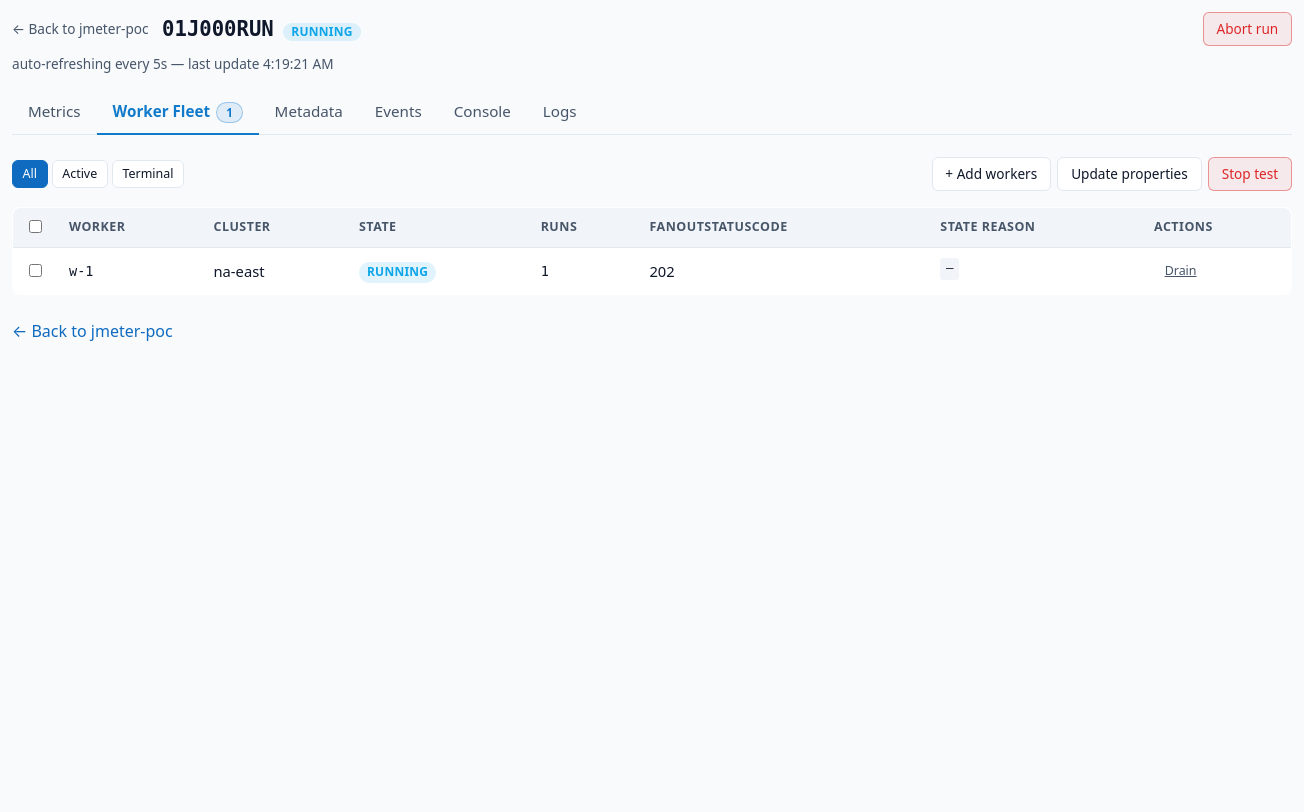
Test case: RunDetailPage — metadata dynamics › Metadata shows the plugin snapshot, the fleet properties, and save-results
Click the tab "Metadata".
click(309, 112)  # box [259,90,359,135]
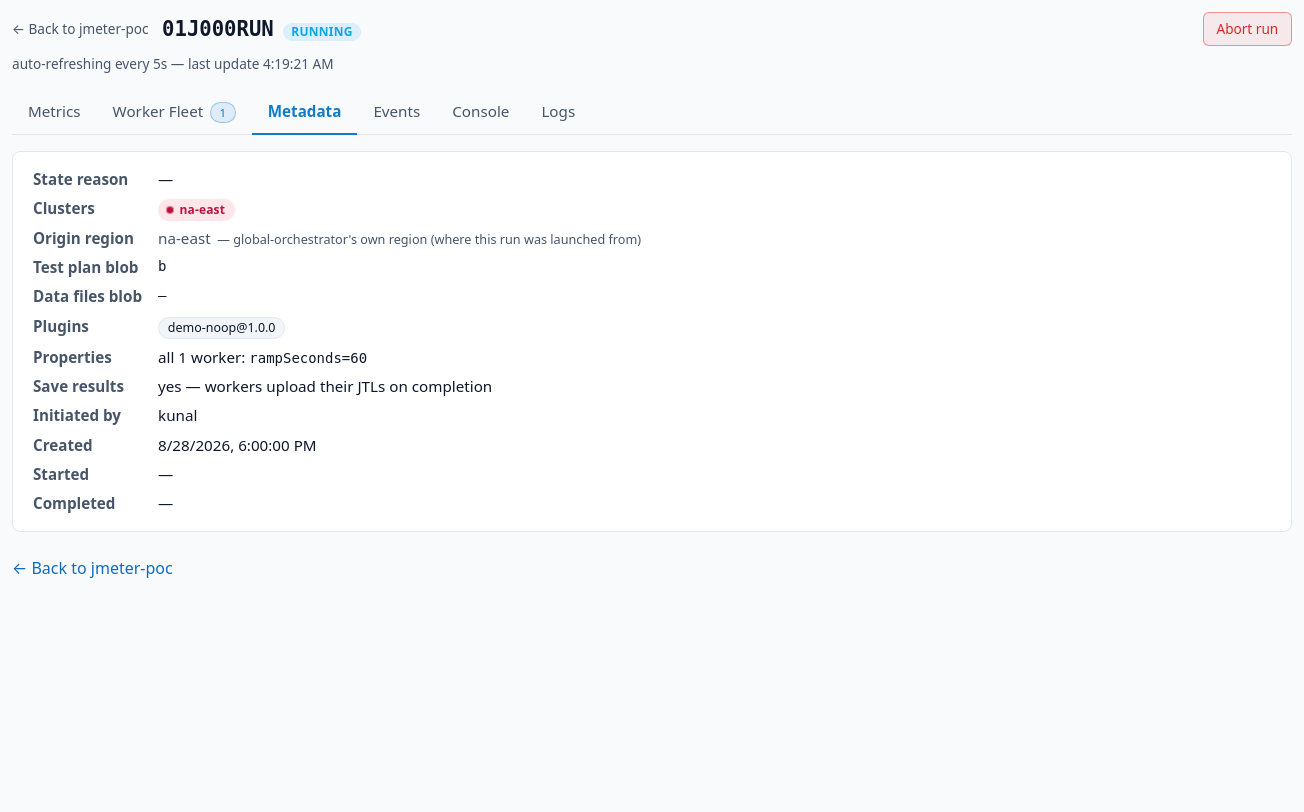
Now the text "demo-noop@1.0.0" is shown, box [158,317,285,339]
Now the text "rampSeconds=60" is shown, box [249,350,367,366]
Now the text "yes — workers upload their JTLs on completion" is shown, box [158,376,492,396]
